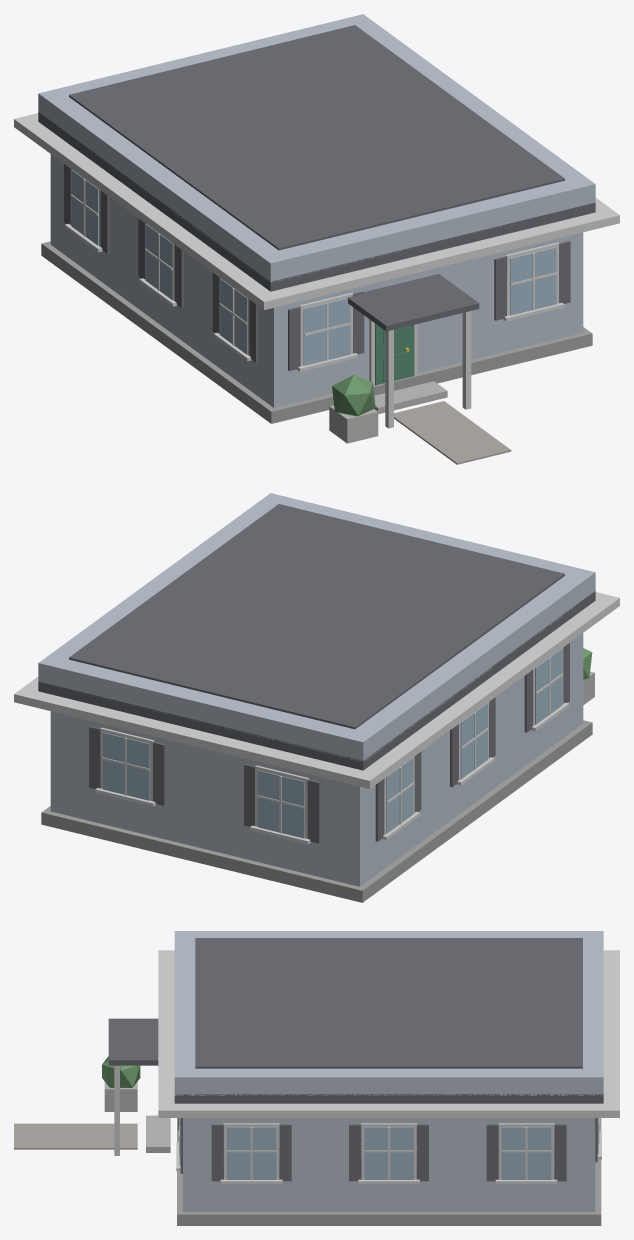
The model's file is Villa_05.glb.
The picture shows the model from 3 angles, top to bottom: view 1: azimuth 30°, elevation 25°; view 2: azimuth 150°, elevation 25°; view 3: azimuth 270°, elevation 25°; orthographic projection. The views are drawn at different scales.
Visible parts, largest first — view 1: Villa_05; view 2: Villa_05; view 3: Villa_05.
Part boxes in pixels (bbox=[...]): Villa_05: bbox=[14, 14, 619, 464]; Villa_05: bbox=[14, 493, 619, 902]; Villa_05: bbox=[14, 931, 619, 1225].
Size of the model in its own units: 9.2 by 4.05 by 14.7.
